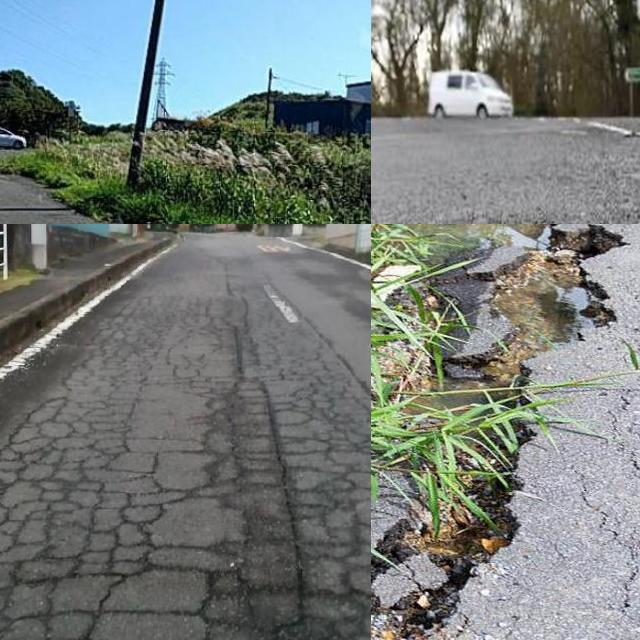Pinggir: (371, 224, 633, 640)
Retak Buaya: (0, 287, 371, 640)
